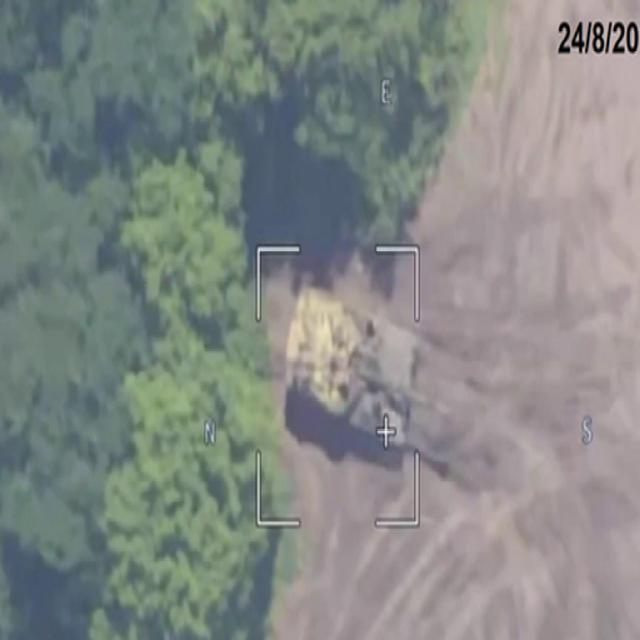ART: (282, 276, 418, 451)
